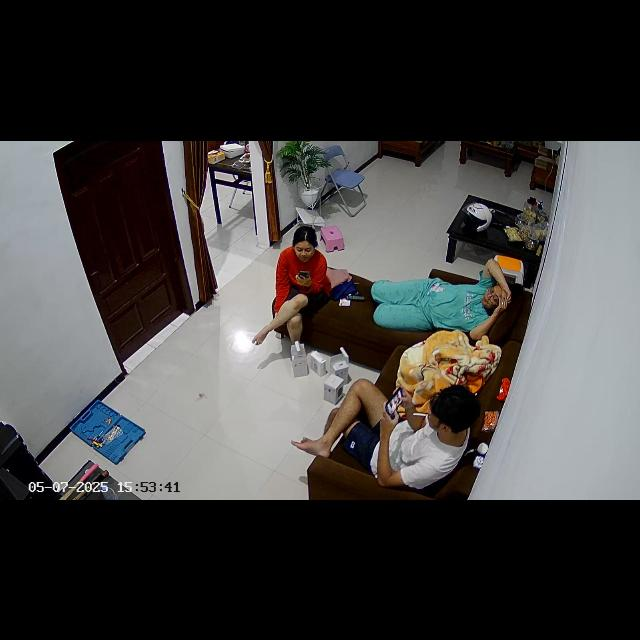rokok: (412, 408, 430, 418)
